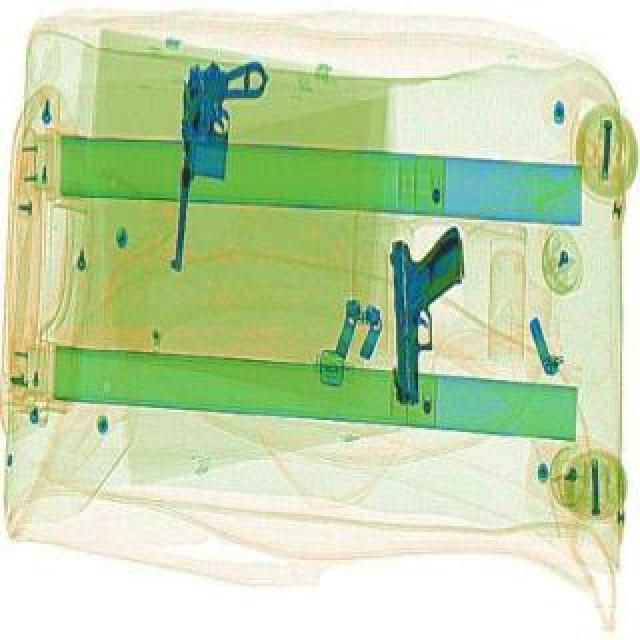gun: (168, 54, 272, 276), (390, 224, 466, 404)
